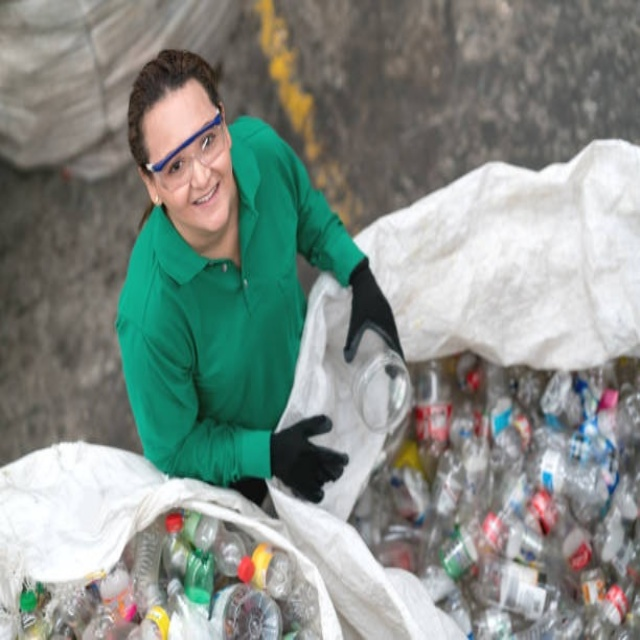Gafas: (147, 112, 226, 193)
Guantes: (269, 408, 353, 502), (343, 255, 407, 366)
Sin_mascara: (186, 176, 228, 232)
